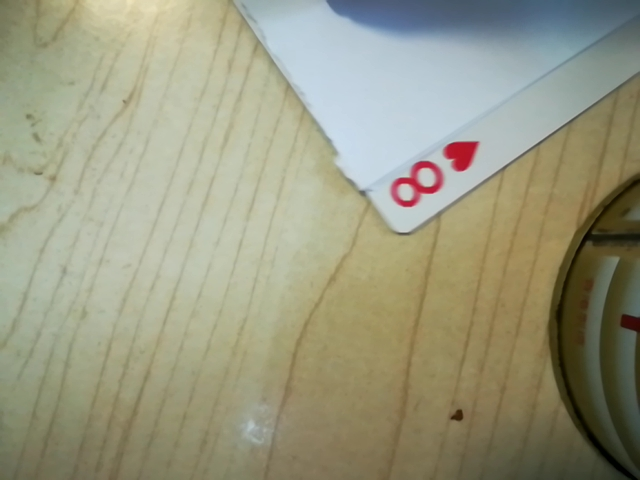hx 8: (382, 135, 485, 220)
